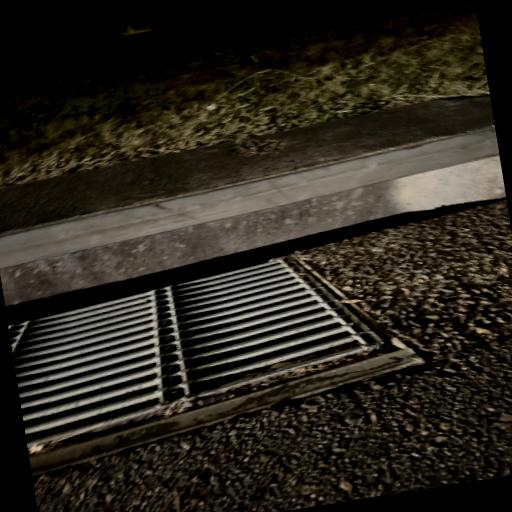kerb: (0, 97, 506, 474)
